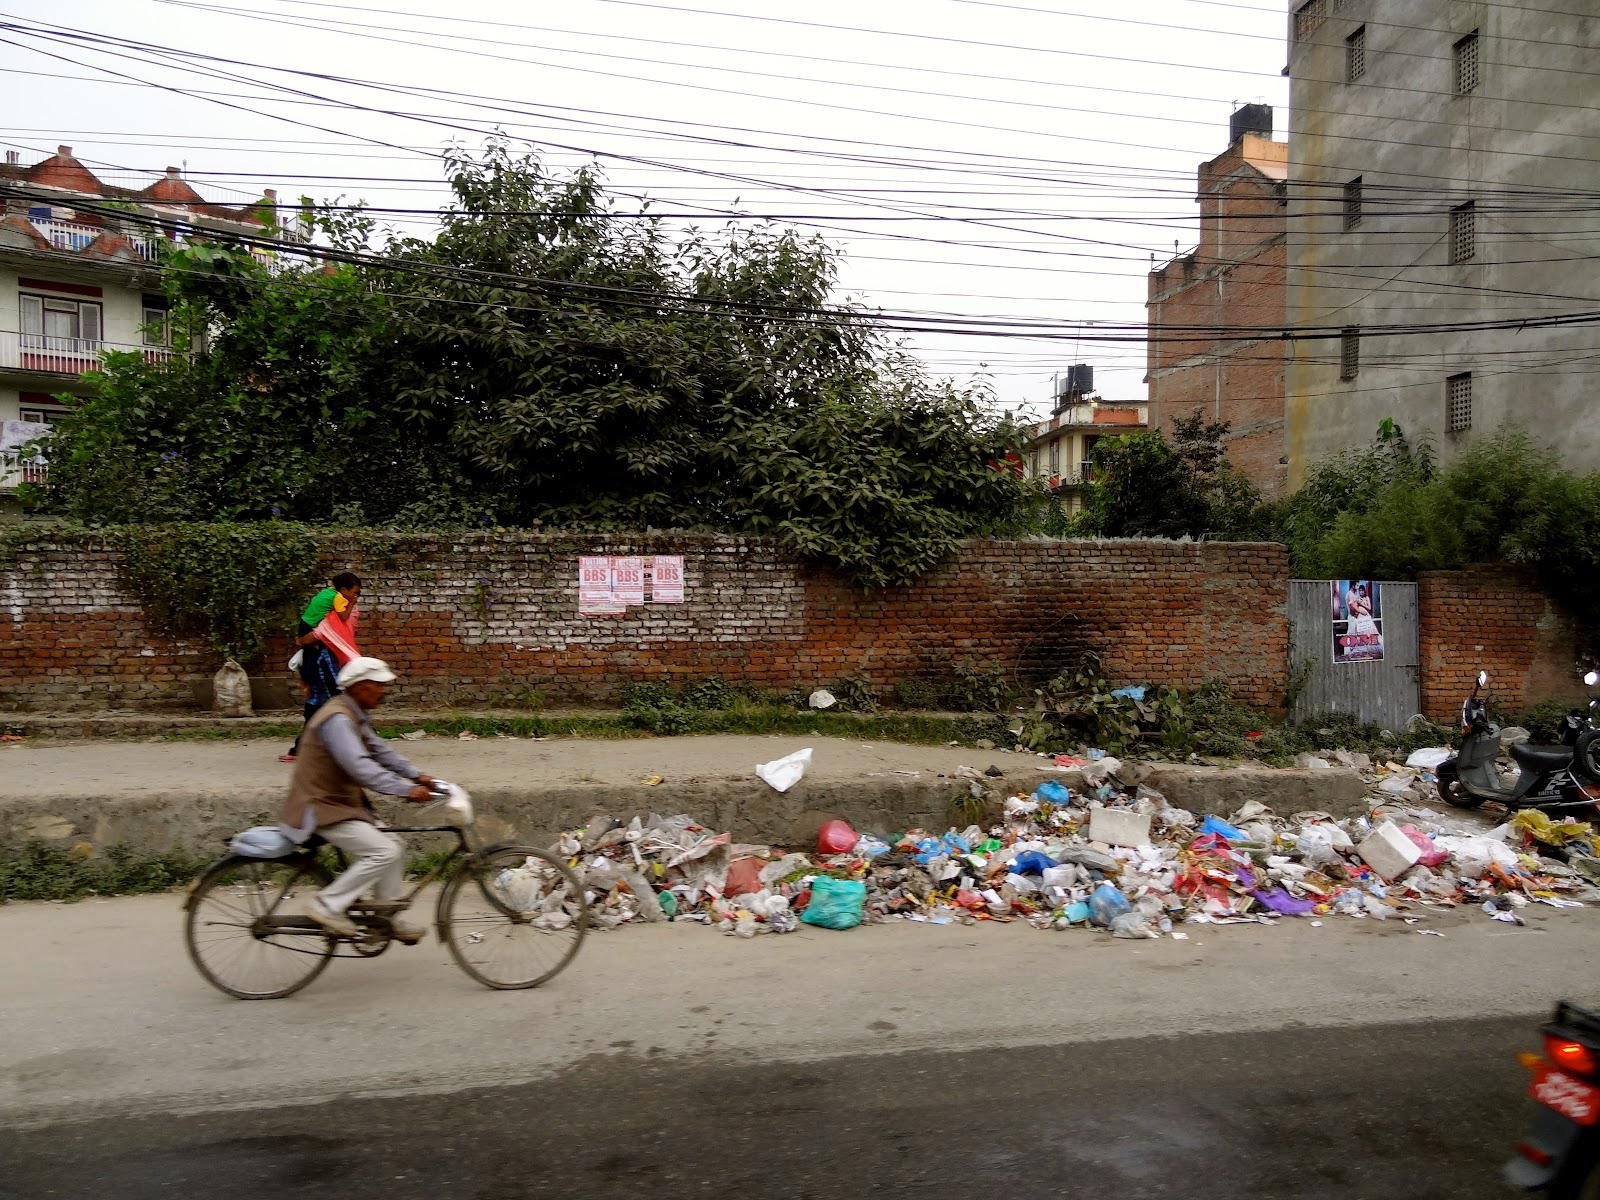Garbage: (997, 787, 1600, 923), (567, 800, 966, 932), (872, 792, 1196, 930)
